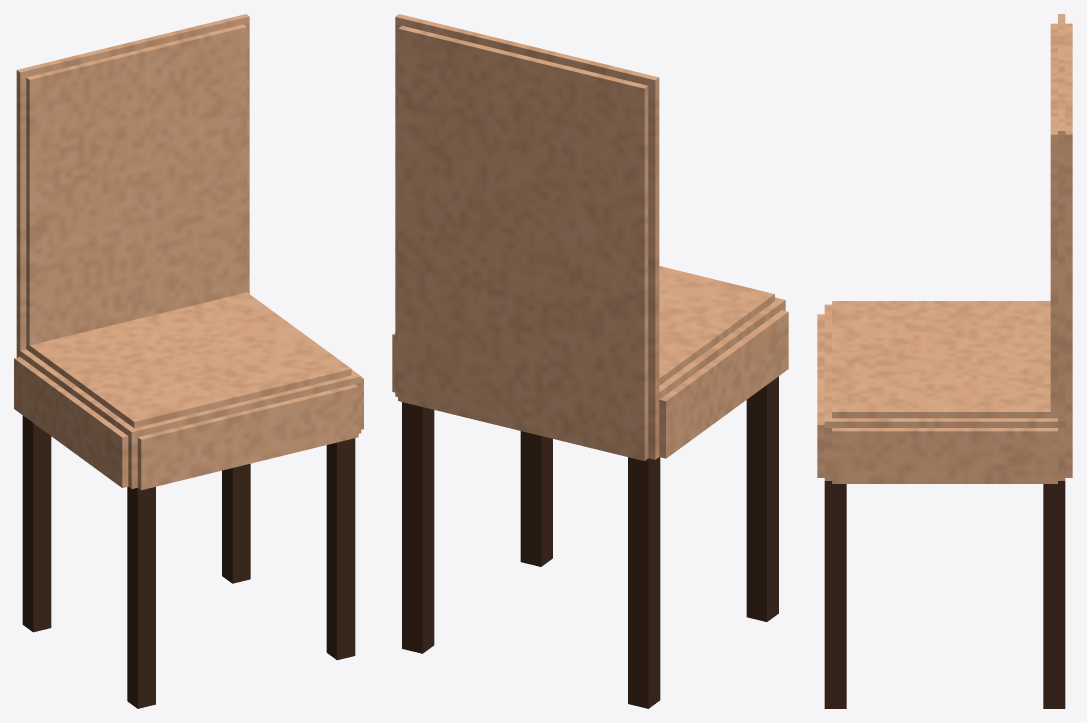
Rendered from MediumObject_Chair.fbx.
3 views of the same model, side by side, from view 1: azimuth 30°, elevation 25°; view 2: azimuth 150°, elevation 25°; view 3: azimuth 270°, elevation 25° (orthographic). The views are drawn at different scales.
Parts seen in each view (by area): view 1: Chair; view 2: Chair; view 3: Chair.
Part boxes in pixels (bbox=[...]): Chair: bbox=[14, 14, 363, 708]; Chair: bbox=[392, 14, 788, 708]; Chair: bbox=[817, 14, 1072, 708].
Bounding box in the file's own units: 40 × 88 × 35.
